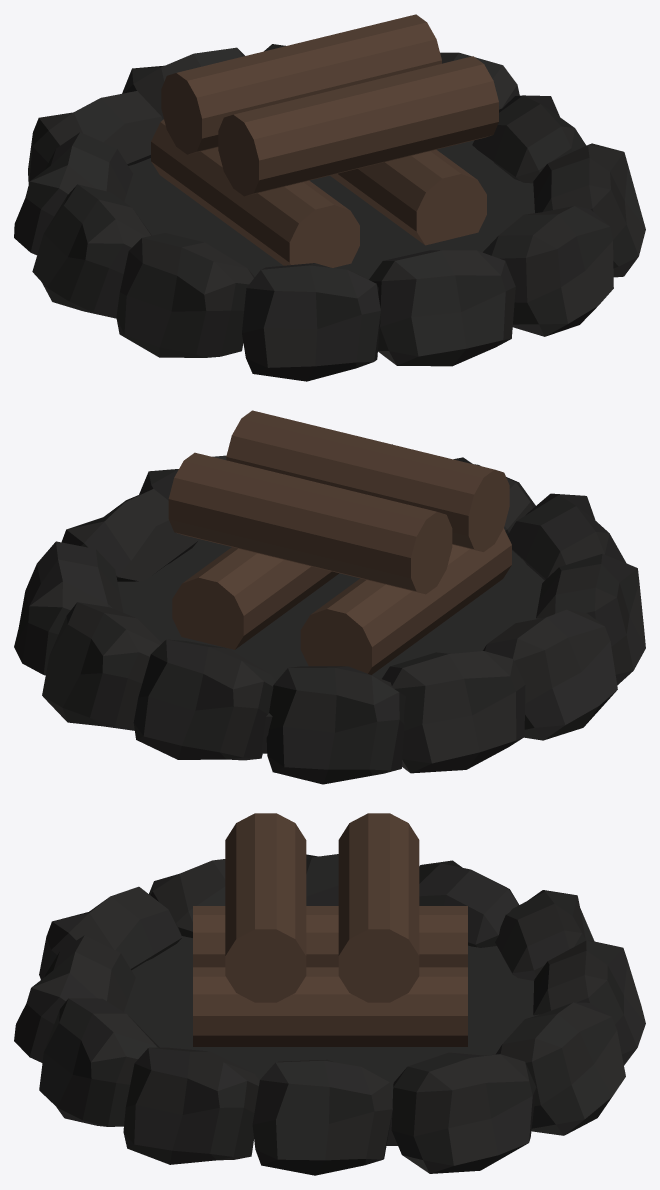
Rendered from Campfire.gltf.
The picture shows the model from 3 angles, top to bottom: view 1: azimuth 30°, elevation 25°; view 2: azimuth 150°, elevation 25°; view 3: azimuth 270°, elevation 25°; orthographic projection.
Parts seen in each view (by area): view 1: beveled_cuboid (×11), cylinder (×5); view 2: beveled_cuboid (×11), cylinder (×5); view 3: beveled_cuboid (×12), cylinder (×5).
Boxes of the visible parts, box(x1,y1,x2,y2) form: beveled_cuboid (×11): box(14, 47, 645, 381); cylinder (×5): box(124, 14, 534, 279); beveled_cuboid (×11): box(14, 455, 645, 784); cylinder (×5): box(117, 410, 544, 753); beveled_cuboid (×12): box(14, 854, 645, 1175); cylinder (×5): box(124, 813, 533, 1145).
Size of the model in its own units: 0.2363 by 0.0822 by 0.2442.
1 material, 1 textured.
